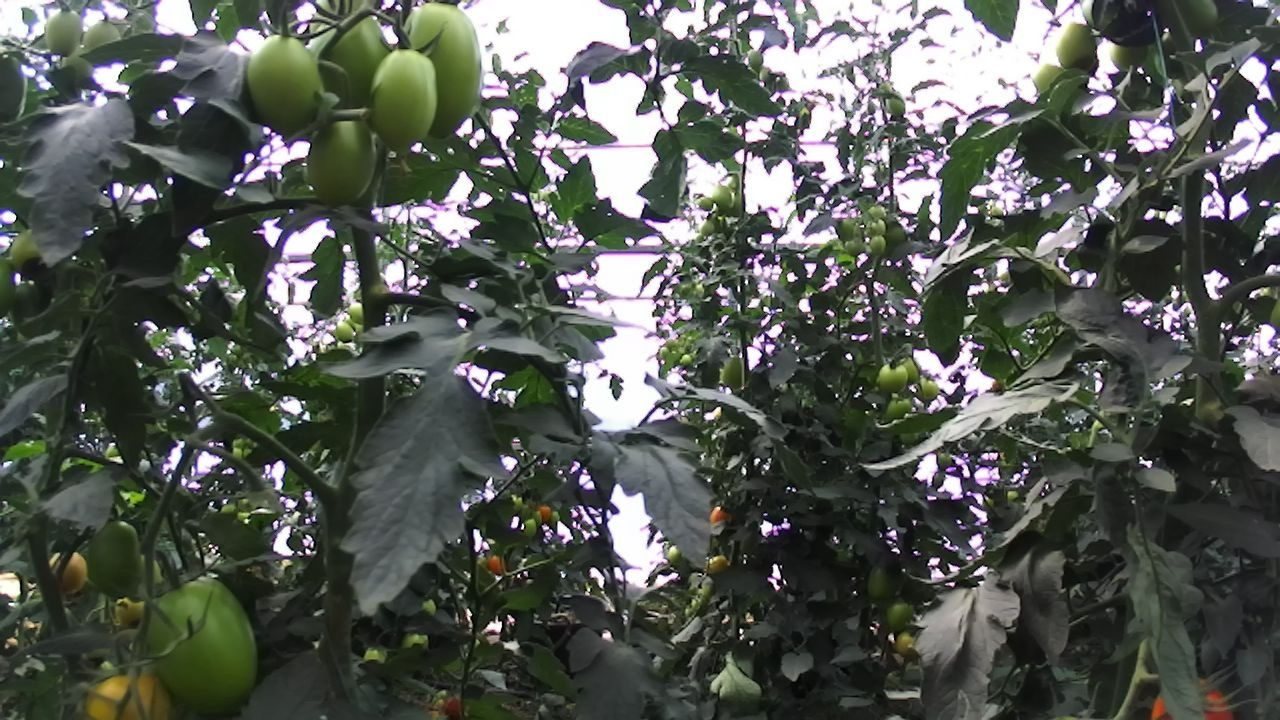tomato: (128, 560, 279, 720), (386, 0, 507, 171), (291, 0, 420, 138), (236, 21, 351, 154), (357, 29, 452, 168), (291, 101, 398, 220), (72, 644, 206, 720), (77, 505, 155, 615), (0, 213, 64, 282), (33, 0, 97, 65), (36, 537, 97, 605), (1047, 15, 1108, 79), (1165, 0, 1242, 50), (73, 10, 133, 71), (1102, 30, 1153, 77), (861, 554, 904, 609), (879, 591, 922, 637), (1025, 57, 1072, 98), (886, 622, 927, 664), (718, 351, 755, 392), (397, 620, 434, 660), (874, 359, 912, 397), (893, 351, 927, 389), (709, 180, 738, 221), (910, 372, 943, 407), (357, 640, 393, 672), (881, 86, 911, 124), (884, 394, 915, 428), (704, 498, 735, 530), (345, 296, 375, 328), (330, 318, 359, 347), (703, 549, 733, 577), (831, 215, 858, 245), (860, 200, 889, 227), (485, 550, 511, 579), (841, 233, 868, 259), (745, 45, 767, 74), (864, 215, 889, 240), (518, 514, 541, 541), (664, 540, 686, 566), (696, 216, 719, 240), (868, 231, 888, 257), (933, 449, 955, 472), (756, 64, 779, 86), (535, 500, 554, 526), (696, 193, 716, 214), (678, 351, 694, 369)
